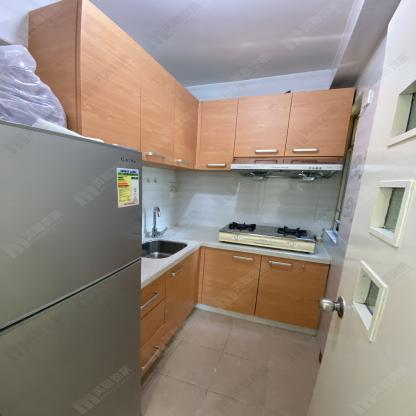Cupboard: (141, 48, 198, 170)
Exhaust Hood: (229, 157, 344, 186)
Faucet: (149, 202, 168, 238)
Fridge: (2, 120, 142, 416)
Sink: (141, 235, 201, 267)
Stove: (210, 214, 323, 258)
